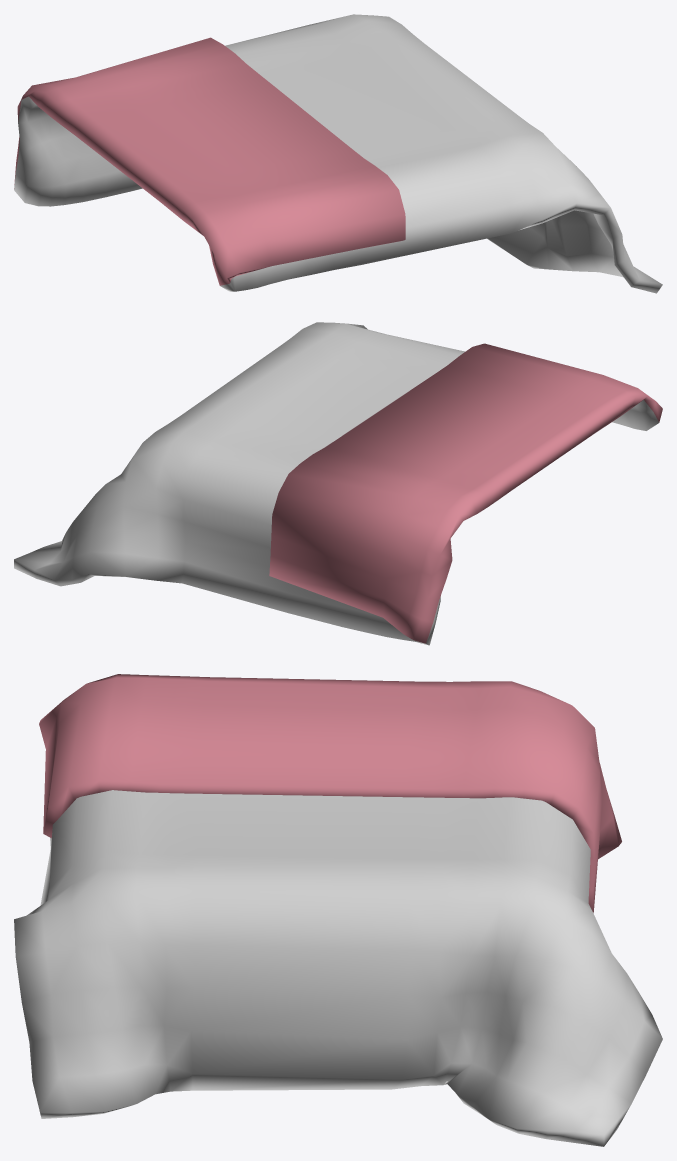
Rendered from Duvet.fbx.
3 views of the same model, one above another, from view 1: azimuth 30°, elevation 25°; view 2: azimuth 150°, elevation 25°; view 3: azimuth 270°, elevation 25° (orthographic). The views are drawn at different scales.
Visible parts, largest first — view 1: SurfPatch.000; view 2: SurfPatch.000; view 3: SurfPatch.000.
Part boxes in pixels (x1,y1,x2,y2): SurfPatch.000: [14, 14, 662, 293]; SurfPatch.000: [14, 322, 662, 645]; SurfPatch.000: [14, 674, 662, 1146].
Size of the model in its own units: 2036 by 690 by 1973.
